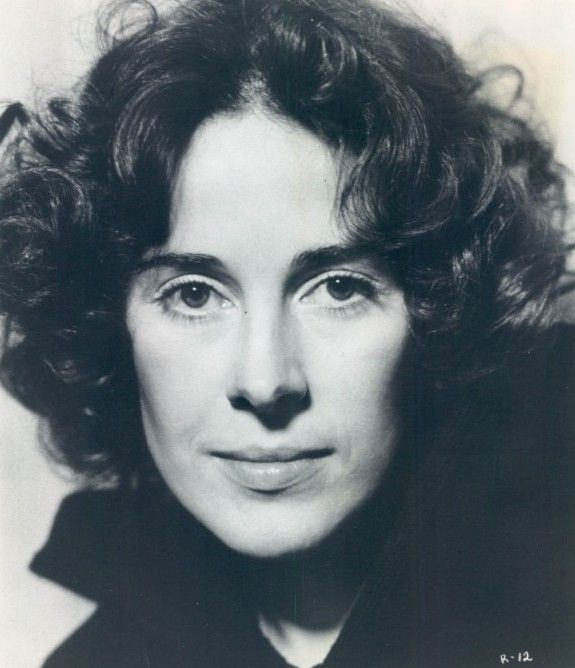bad: (98, 206, 419, 527)
